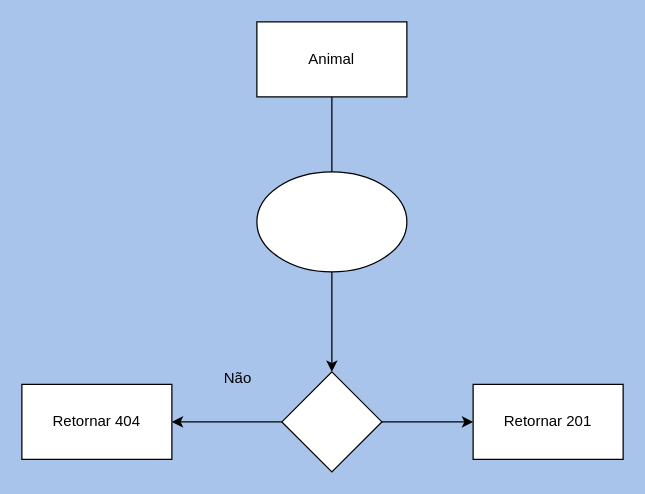
Some shapes in this 645 by 494 pixel diagram are drawn without their labels. The shapes that lost their labels are listed below. From the top down, each one's centre as x and y in pixels, then its label:
At (331,221): "Salvar Animal".
At (331,421): "Salvou?".
